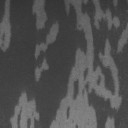red iron: (0, 0, 88, 128), (82, 0, 128, 128), (0, 0, 6, 24), (74, 78, 80, 100), (16, 108, 22, 128), (83, 68, 88, 80), (66, 106, 70, 120), (96, 76, 100, 86), (2, 34, 5, 46), (76, 124, 78, 128)
